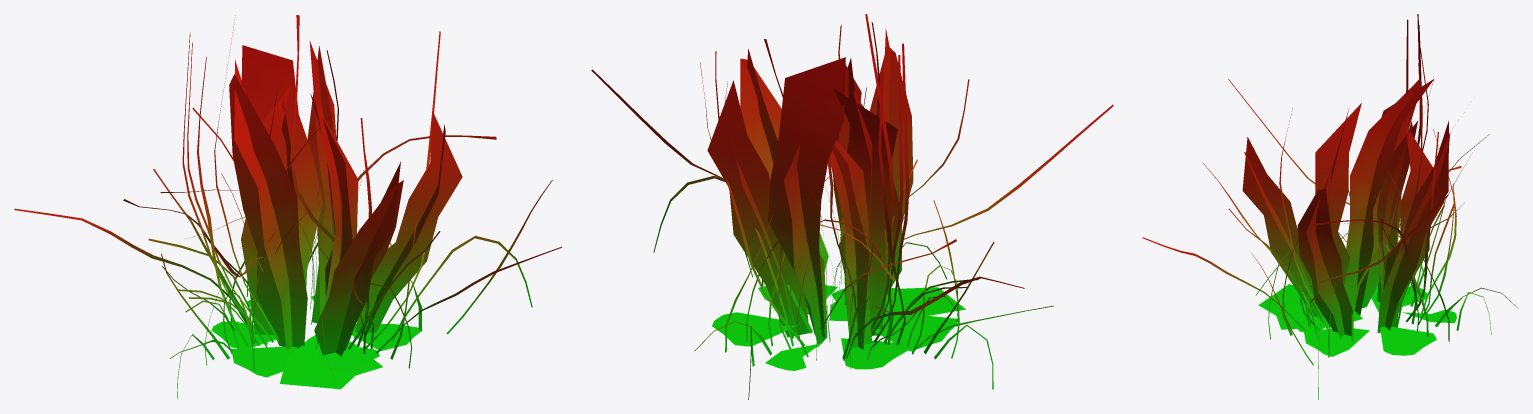
File: uddmcgbia_Var8_LOD0.fbx
The picture shows the model from 3 angles, left to right: view 1: azimuth 30°, elevation 25°; view 2: azimuth 150°, elevation 25°; view 3: azimuth 270°, elevation 25°; orthographic projection. The views are drawn at different scales.
Parts seen in each view (by area): view 1: _f067_Var8_LOD0; view 2: _f067_Var8_LOD0; view 3: _f067_Var8_LOD0.
Part boxes in pixels (x1,y1,x2,y2): _f067_Var8_LOD0: (14, 15, 562, 399); _f067_Var8_LOD0: (591, 14, 1113, 399); _f067_Var8_LOD0: (1142, 14, 1518, 399).
Bounding box in the file's own units: 25.22 × 19.28 × 21.91.
